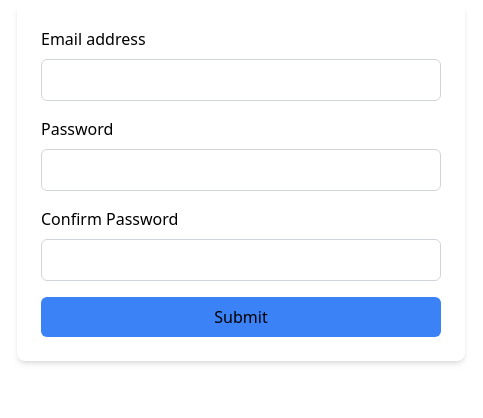
it: 05-form-testing › should show password error if passwords dont match
Check: the text "Passwords do not match" is not shown
Type "test@test.com" into the field labelled "Email address" at [241, 80], box [41,59,441,101]
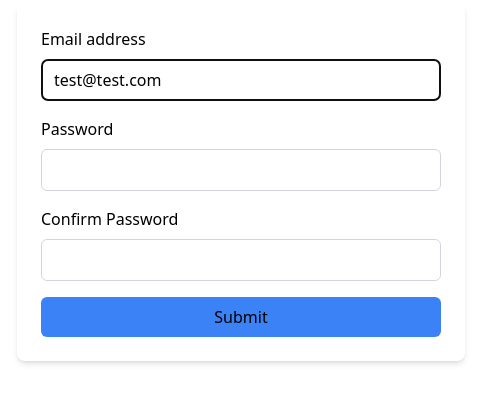
Type "bradwaj" into the password field labelled "Password" at [241, 170], box [41,149,441,191]
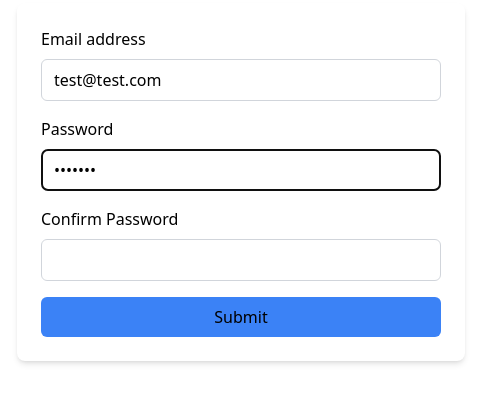
Type "notbradwaj" into the password field labelled "Confirm Password" at [241, 260], box [41,239,441,281]
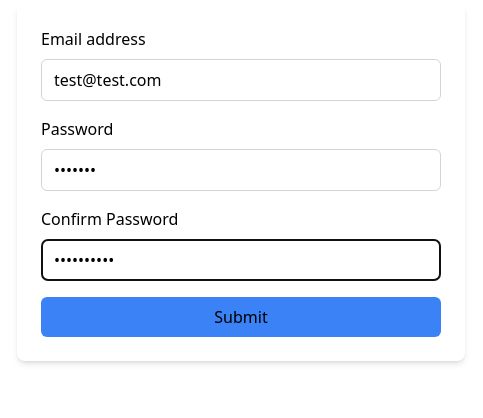
Click the button "Submit" at [241, 317], box [41,297,441,337]
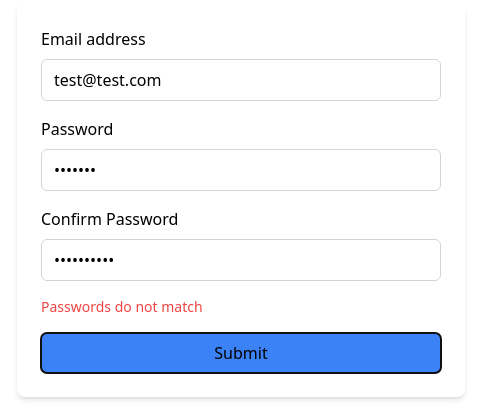
Check: the text "Passwords do not match" is shown, box [41,297,203,316]
